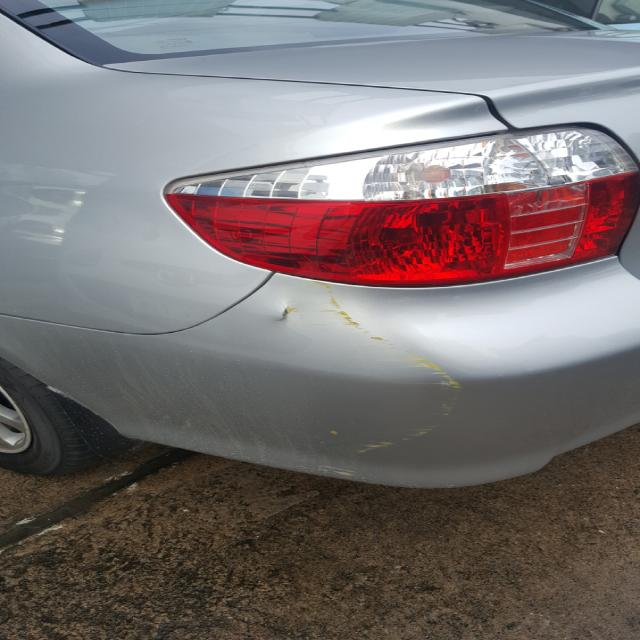scratch: (311, 282, 476, 473)
